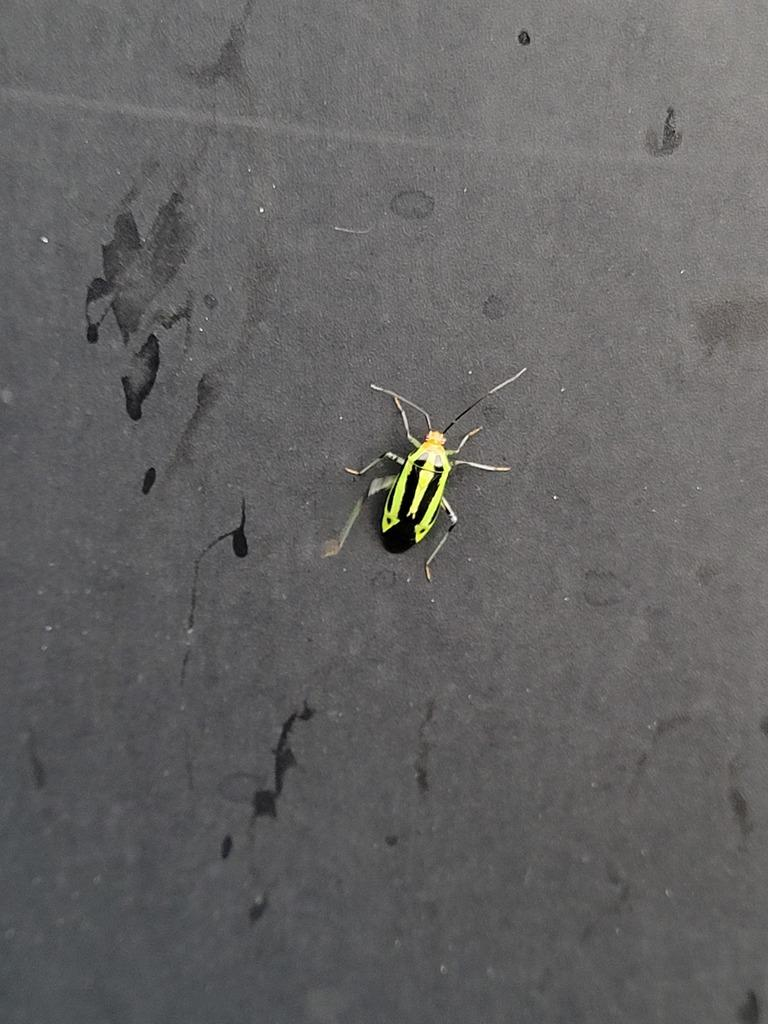plant_bugs: (299, 324, 557, 631)
